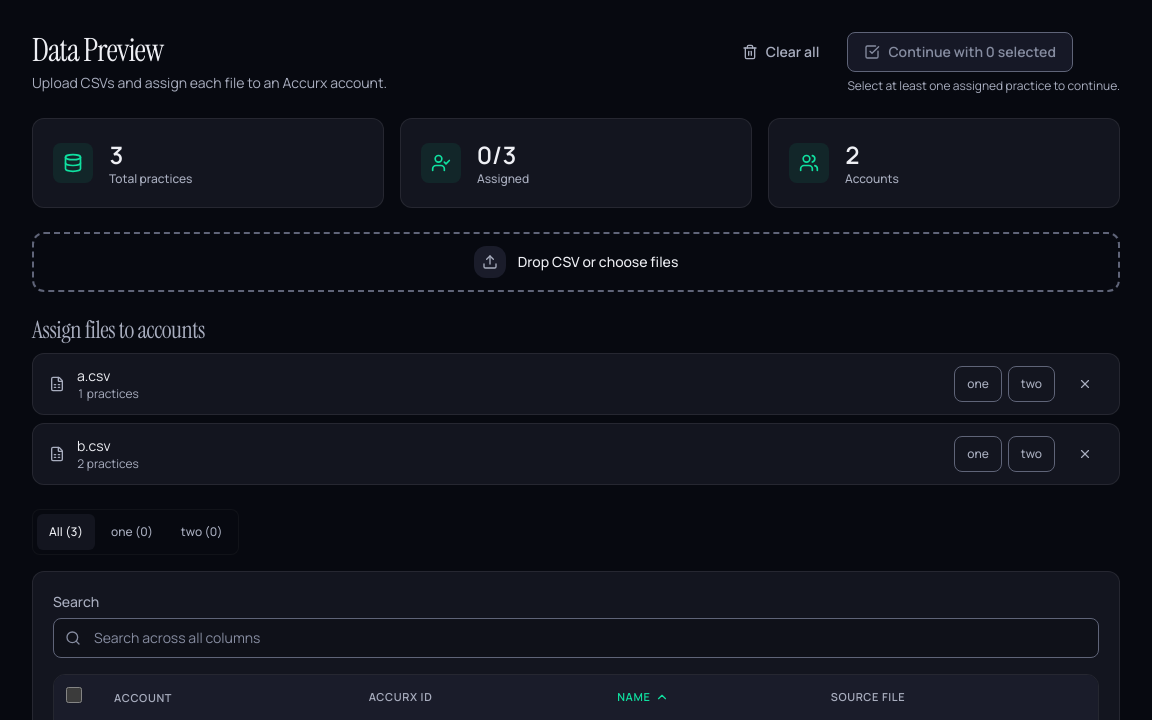
DataPage assignments › keeps the same accurx_id in two files on two accounts and counts assigned rows
Check: the button named "remove file a.csv" is shown, box [1067,366,1103,402]
Assign a.csv → one, b.csv → two via the per-file account buttons.
Click the 1st button "one": click(978, 384) [954,366,1002,402]
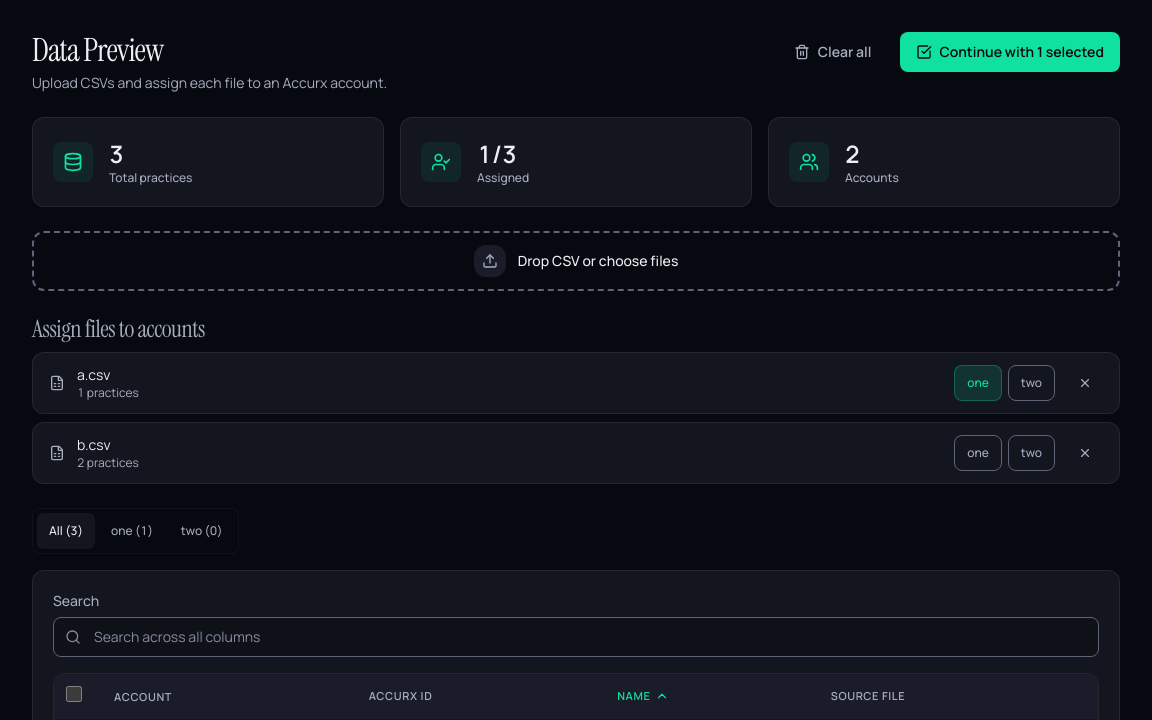
Click the 2nd button "two": click(1031, 453) [1008,435,1055,471]
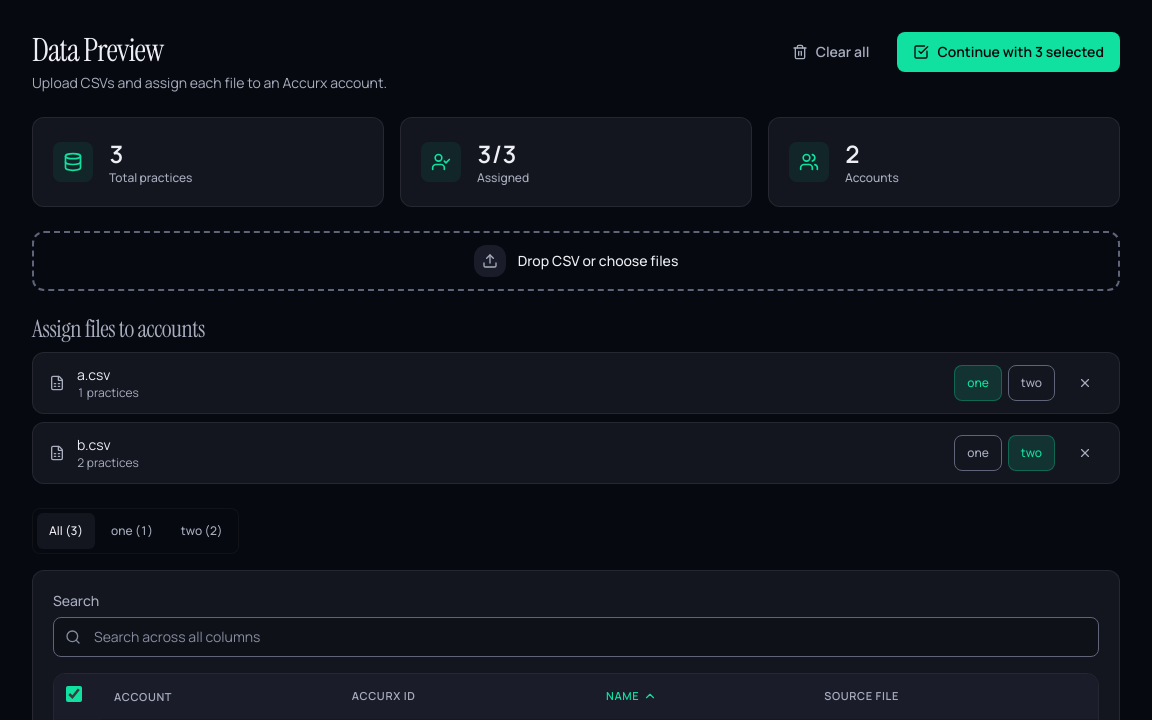
Check: the button "one (1)" is shown, box [99,513,165,549]
Check: the text "3/3" is shown, box [477,137,517,170]
Check: the button "two (2)" is shown, box [169,513,234,549]
